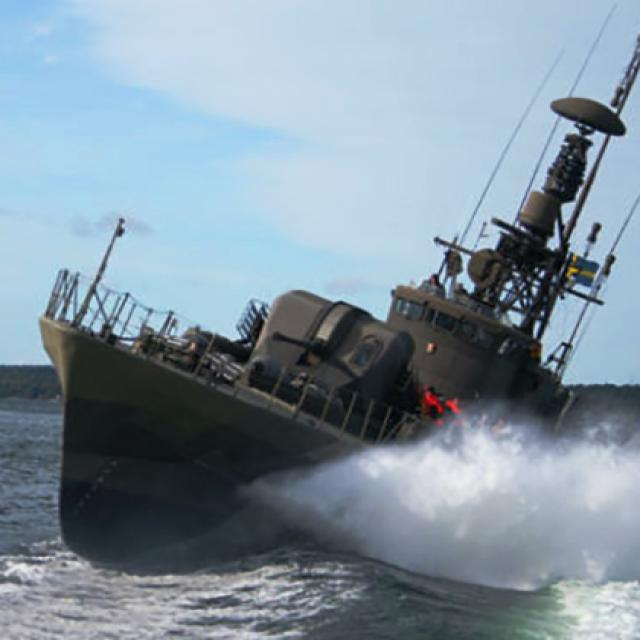navalvessels: (3, 49, 640, 582)
